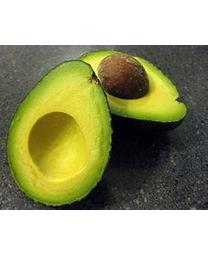avocado: (6, 59, 113, 208), (74, 50, 188, 136)
